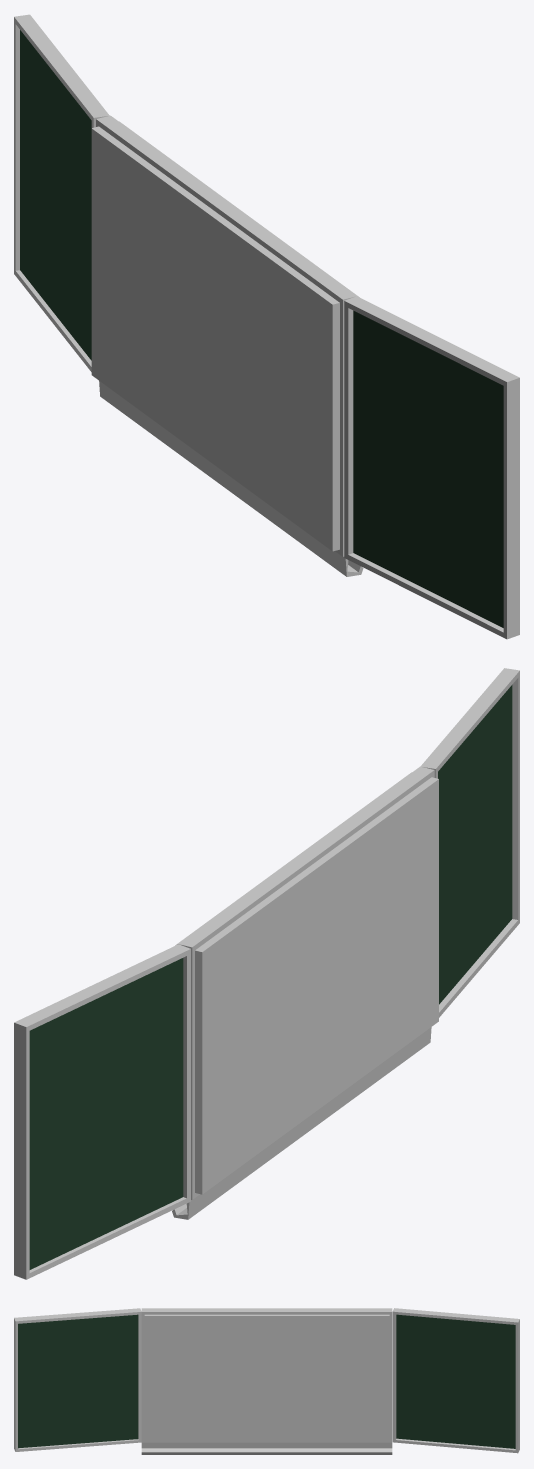
The model's file is aframe.gltf.
3 views of the same model, one above another, from view 1: azimuth 30°, elevation 25°; view 2: azimuth 150°, elevation 25°; view 3: azimuth 270°, elevation 25° (orthographic). The views are drawn at different scales.
Visible parts, largest first — view 1: bord.001, zijbord_rechts.001, zijbord_rechts, zijbord_rechts_rand.001, rand, rand.001, zijbord_rechts_rand; view 2: bord.001, zijbord_rechts, zijbord_rechts.001, zijbord_rechts_rand, rand, zijbord_rechts_rand.001, rand.001; view 3: bord.001, zijbord_rechts.001, zijbord_rechts, rand.001, rand, zijbord_rechts_rand, zijbord_rechts_rand.001.
Part boxes in pixels (left/top/right/bottom): bord.001: left=91, top=121, right=359, bottom=551; zijbord_rechts.001: left=353, top=310, right=503, bottom=627; zijbord_rechts: left=20, top=30, right=91, bottom=360; zijbord_rechts_rand.001: left=344, top=296, right=519, bottom=639; rand: left=96, top=115, right=356, bottom=556; rand.001: left=99, top=118, right=363, bottom=576; zijbord_rechts_rand: left=14, top=14, right=109, bottom=371; bord.001: left=175, top=772, right=438, bottom=1194; zijbord_rechts: left=29, top=958, right=183, bottom=1269; zijbord_rechts.001: left=438, top=685, right=512, bottom=1004; zijbord_rechts_rand: left=14, top=944, right=190, bottom=1279; rand: left=177, top=766, right=434, bottom=1199; zijbord_rechts_rand.001: left=420, top=668, right=519, bottom=1017; rand.001: left=172, top=767, right=431, bottom=1219; bord.001: left=144, top=1314, right=389, bottom=1441; zijbord_rechts.001: left=18, top=1314, right=138, bottom=1448; zijbord_rechts: left=396, top=1314, right=515, bottom=1448; rand.001: left=141, top=1309, right=392, bottom=1454; rand: left=141, top=1308, right=392, bottom=1442; zijbord_rechts_rand: left=392, top=1308, right=519, bottom=1453; zijbord_rechts_rand.001: left=14, top=1308, right=141, bottom=1451.
Size of the model in its own units: 0.6239 by 2.56 by 8.26.
